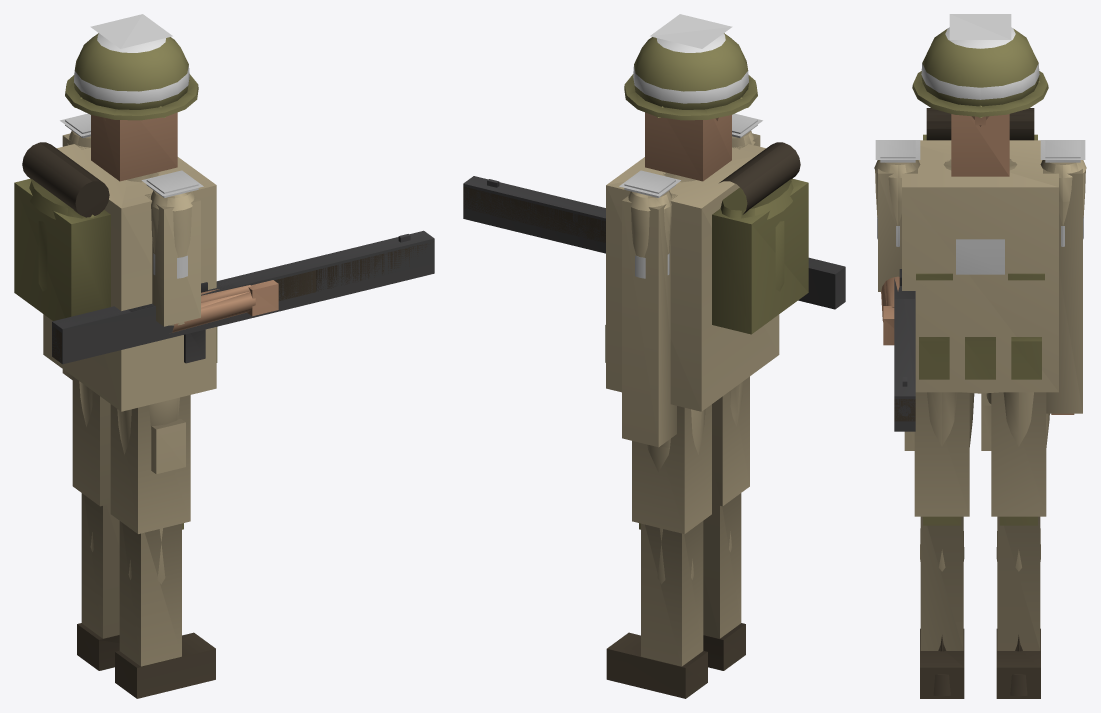
File: meridian_rifleman.glb
3 views of the same model, side by side, from view 1: azimuth 30°, elevation 25°; view 2: azimuth 150°, elevation 25°; view 3: azimuth 270°, elevation 25° (orthographic).
Parts seen in each view (by area): view 1: torso (×2), arm_r (×3), head (×2), shin_r, leg_r (×2), shin_l, leg_l; view 2: torso (×2), head (×2), arm_l (×2), arm_r (×3), shin_l, leg_l (×2), shin_r, leg_r; view 3: torso (×2), head (×2), arm_r (×3), shin_r (×2), shin_l (×2), arm_l (×2), leg_l (×2), leg_r (×2).
Boxes of the visible parts, left/top/right/bottom form: torso (×2): left=14, top=142, right=217, bottom=411; arm_r (×3): left=52, top=170, right=434, bottom=364; head (×2): left=65, top=14, right=198, bottom=181; shin_r: left=115, top=521, right=215, bottom=698; leg_r (×2): left=110, top=395, right=190, bottom=533; shin_l: left=77, top=493, right=119, bottom=670; leg_l: left=72, top=376, right=110, bottom=506; torso (×2): left=605, top=142, right=808, bottom=411; head (×2): left=624, top=14, right=757, bottom=181; arm_l (×2): left=619, top=170, right=680, bottom=447; arm_r (×3): left=463, top=113, right=845, bottom=309; shin_l: left=606, top=521, right=707, bottom=698; leg_l (×2): left=632, top=404, right=711, bottom=534; shin_r: left=703, top=493, right=745, bottom=670; leg_r: left=712, top=376, right=749, bottom=506; torso (×2): left=902, top=108, right=1058, bottom=393; head (×2): left=912, top=14, right=1048, bottom=176; arm_r (×3): left=874, top=140, right=920, bottom=431; shin_r (×2): left=920, top=516, right=964, bottom=698; shin_l (×2): left=996, top=516, right=1040, bottom=698; arm_l (×2): left=1040, top=140, right=1086, bottom=414; leg_l (×2): left=981, top=392, right=1049, bottom=516; leg_r (×2): left=904, top=392, right=974, bottom=516.
Bounding box in the file's own units: 1.13 × 1.86 × 0.554.
